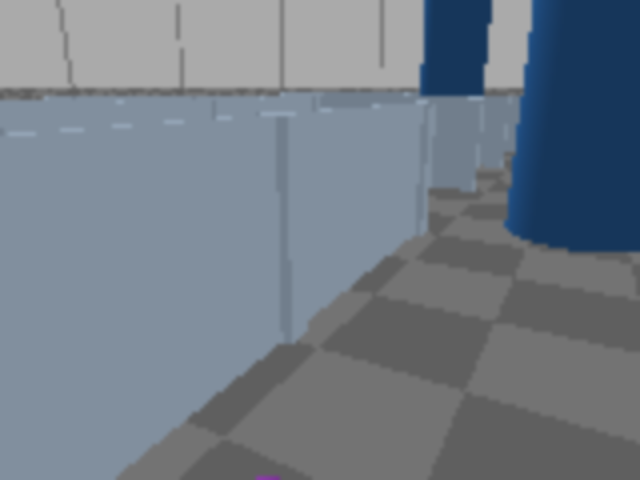puck: (235, 457, 301, 478)
